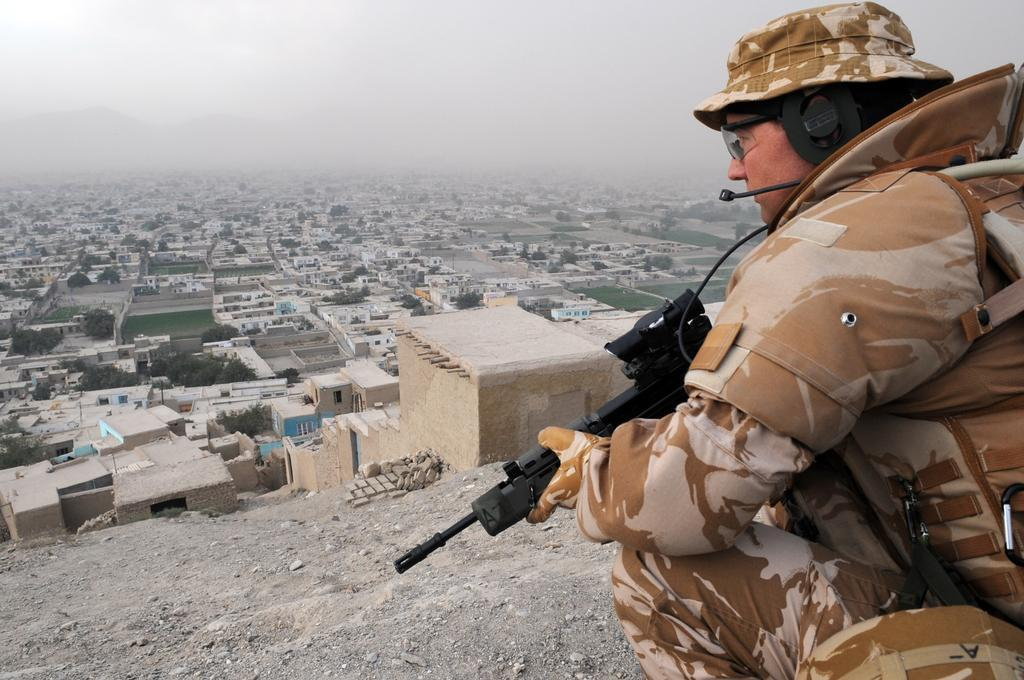gun: (388, 291, 724, 573)
